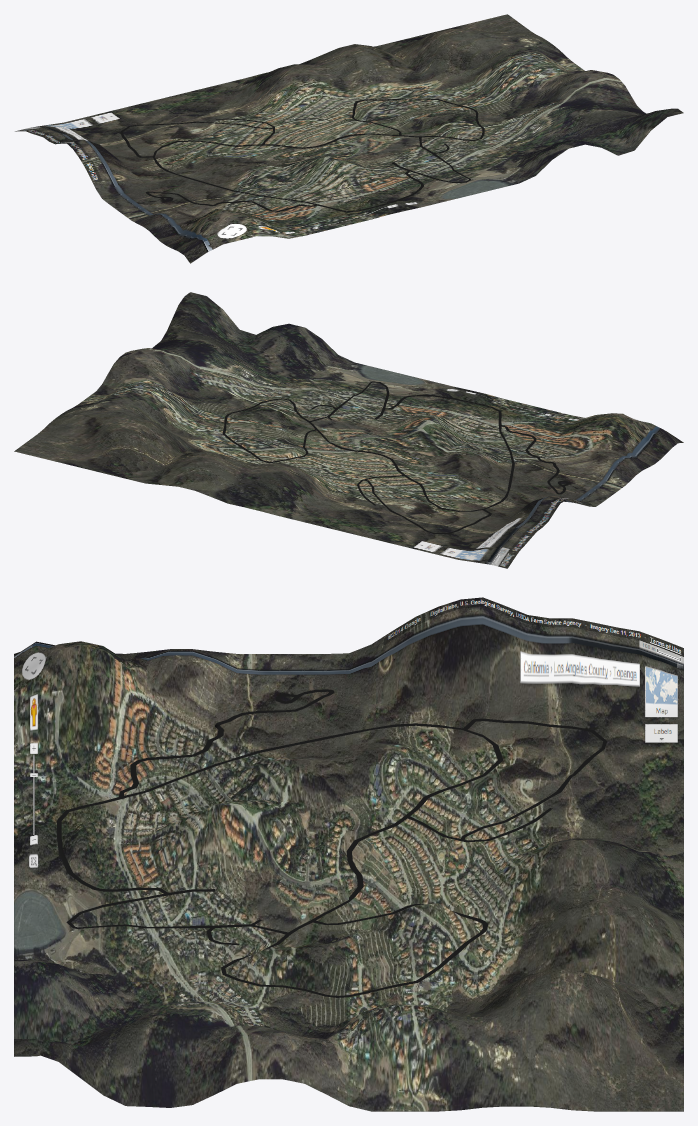
File: terrain.FBX
3 renders of one model, top to bottom at view 1: azimuth 30°, elevation 25°; view 2: azimuth 150°, elevation 25°; view 3: azimuth 270°, elevation 25°, orthographic. The views are drawn at different scales.
Parts seen in each view (by area): view 1: Plane003; view 2: Plane003; view 3: Plane003.
Boxes of the visible parts, box(x1,y1,x2,y2) form: Plane003: box(15, 14, 683, 263); Plane003: box(14, 292, 683, 568); Plane003: box(14, 597, 683, 1111).
Bounding box in the file's own units: 301832 × 186766 × 17671.
Materials: 2 (1 with a texture image).
